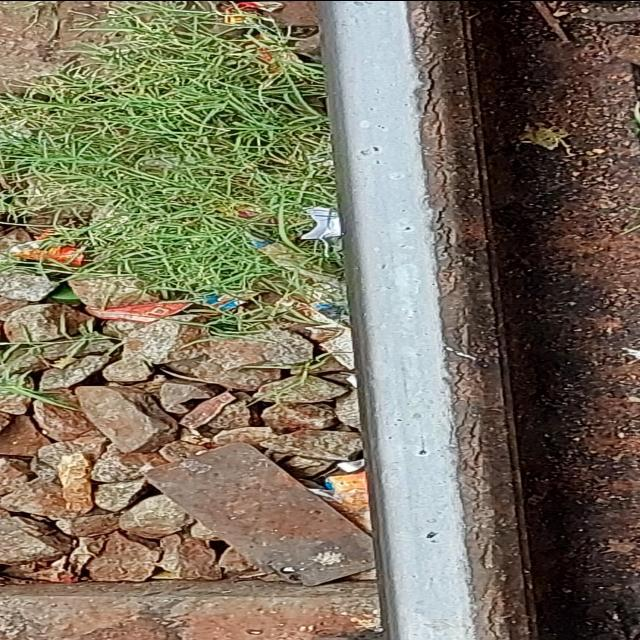squats_high: (357, 145, 393, 165), (425, 530, 441, 544), (415, 444, 432, 454), (373, 125, 389, 131), (400, 226, 412, 232)
